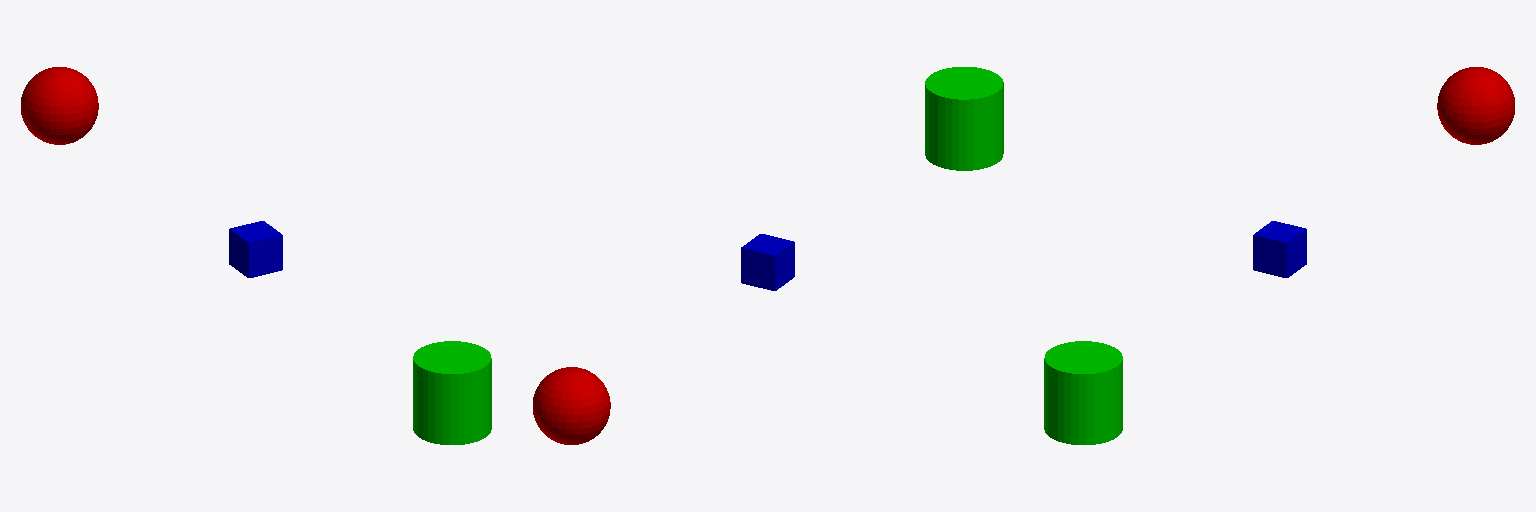
URDF robot description (visualise):
<?xml version="1.0"?>
<robot name="visualise">
	<material name ="blue">
		<color rgba="0 0 0.8 1"/>
	</material>
	<material name="red">
		<color rgba="0.8 0 0 1"/>
	</material>
	<material name="green">
		<color rgba="0 0.8 0 1"/>
	</material>

	<link name = "cube">
		<visual>
			<geometry>
				<box size="0.1 0.1 0.1"/>
			</geometry>
			<material name="blue"/>
		</visual>
	</link>

	<link name = "sphere">
		<visual>
			<geometry>
				<sphere radius="0.1"/>
			</geometry>
			<material name="red"/>
		</visual>
	</link>

	<joint name="cube_sphere" type="fixed">
		<parent link="cube"/>
		<child link="sphere"/>
		<origin xyz="0 1 0"/>
	</joint>

	<link name = "cylinder">
		<visual>
			<geometry>
				<cylinder length="0.2" radius="0.1"/>
			</geometry>
			<material name="green"/>
		</visual>
	</link>

	<joint name="cube_cylinder" type="fixed">
		<parent link="cube"/>
		<child link="cylinder"/>
		<origin xyz="0 -1 0"/>
	</joint>
</robot>

--- Render facts (derived) ---
Views: 3 orthographic renders of the robot side by side, from view 1: azimuth 30°, elevation 25°; view 2: azimuth 150°, elevation 25°; view 3: azimuth 330°, elevation 25°.
Model visualise with 3 links and 2 joints (2 fixed), rooted at cube, posed every joint at zero.
Links seen in each view (by area): view 1: cylinder, sphere, cube; view 2: cylinder, sphere, cube; view 3: cylinder, sphere, cube.
Link boxes in pixels (x1,y1,x2,y2): cylinder: [413, 341, 491, 444]; sphere: [21, 67, 98, 144]; cube: [229, 221, 282, 277]; cylinder: [925, 67, 1003, 170]; sphere: [533, 367, 610, 444]; cube: [741, 234, 794, 290]; cylinder: [1044, 341, 1122, 444]; sphere: [1437, 67, 1514, 144]; cube: [1253, 221, 1306, 277].
Bounding box of the posed robot: 0.2 × 2.2 × 0.2 m (x, y, z).
Geometry: primitives only (box / cylinder / sphere), no mesh files.